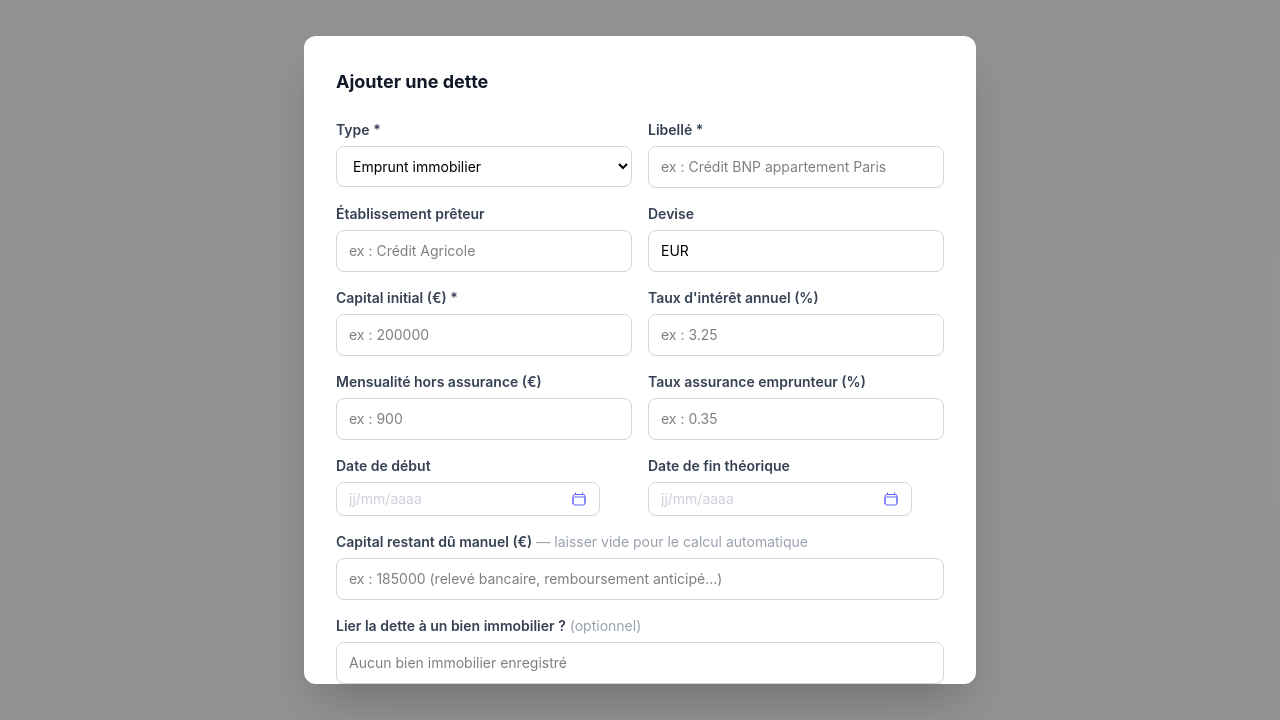
Test: DebtForm › affiche l'avertissement override quand un capital manuel est saisi
Type "180000" into the number field with placeholder "ex : 185000 (relevé bancaire, remboursement anticipé…)". click: (640, 579)
box: [336,558,944,600]
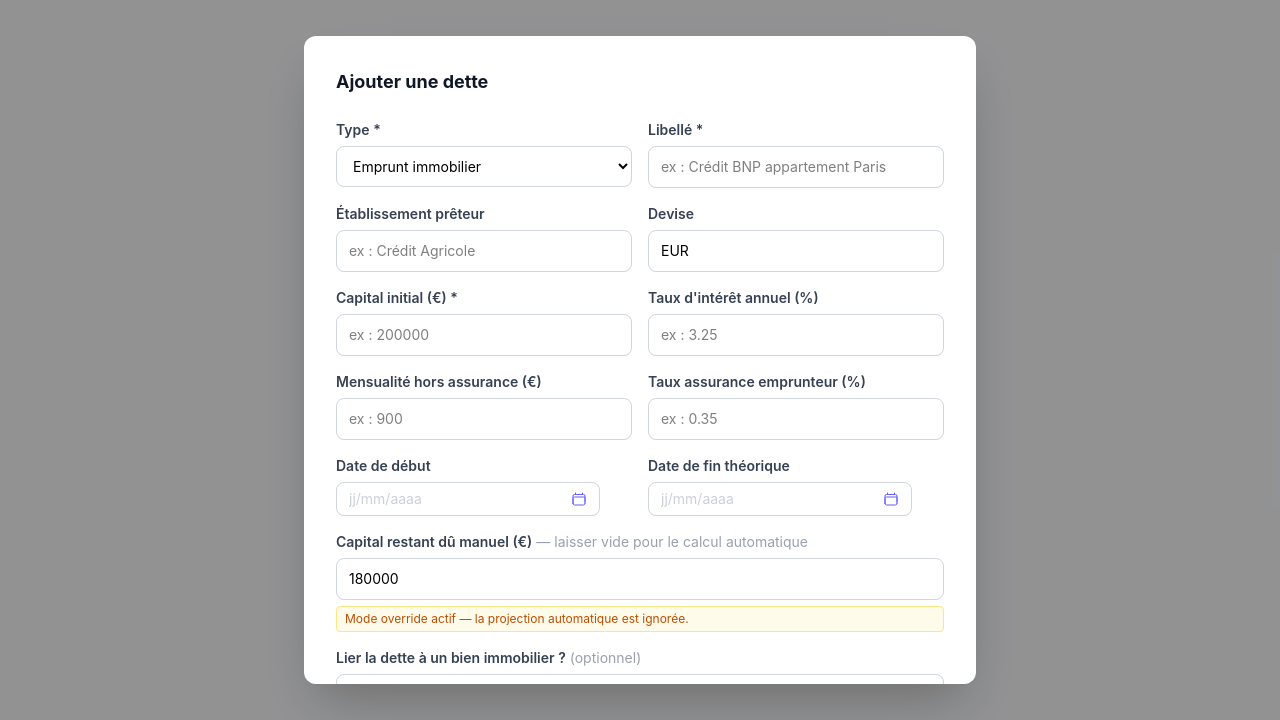
Now the text "Mode override actif — la projection automatique est ignorée." is shown, box [336,606,944,632]
